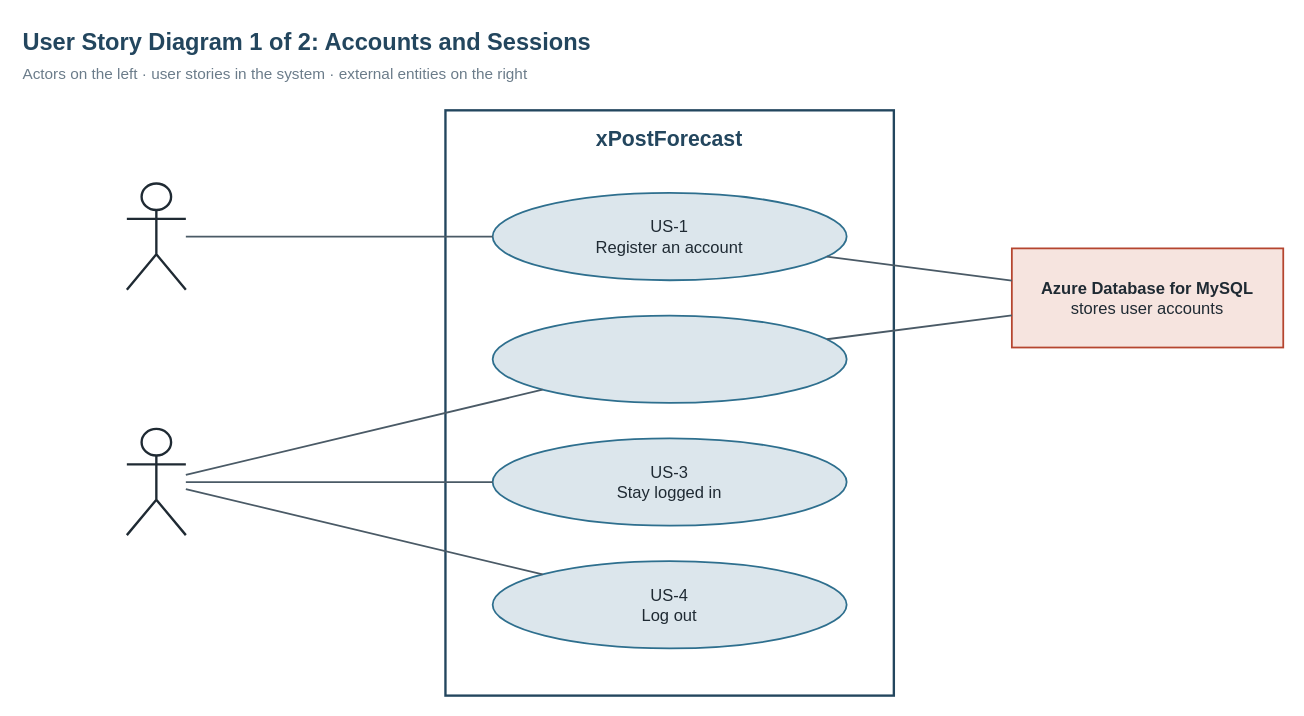
Image size: 1304x716. Some labels were removed from this diagram. The centre of each missing label's shape, as x and y in pixels:
Registered User: the point at 155,481
US-2 Log in: the point at 669,358
Visitor: the point at 155,236
